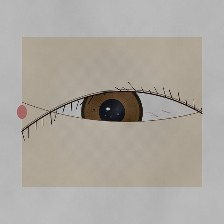pinguecula_lesion: (23, 106, 60, 135)
